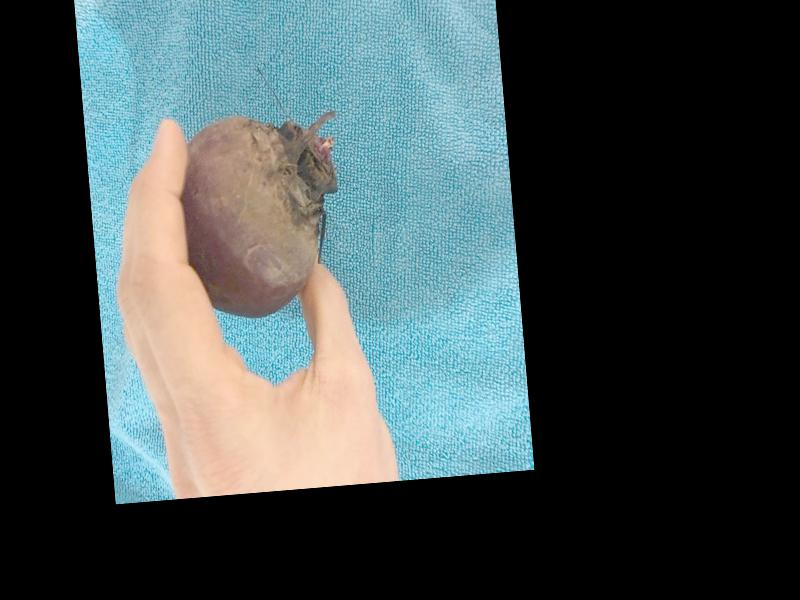Beet: (176, 109, 350, 321)
